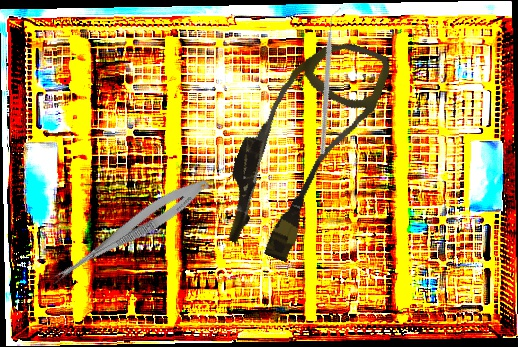Cannula: (207, 19, 395, 273)
Chopper: (263, 6, 400, 156)
Micro Scissor: (46, 170, 214, 295)
